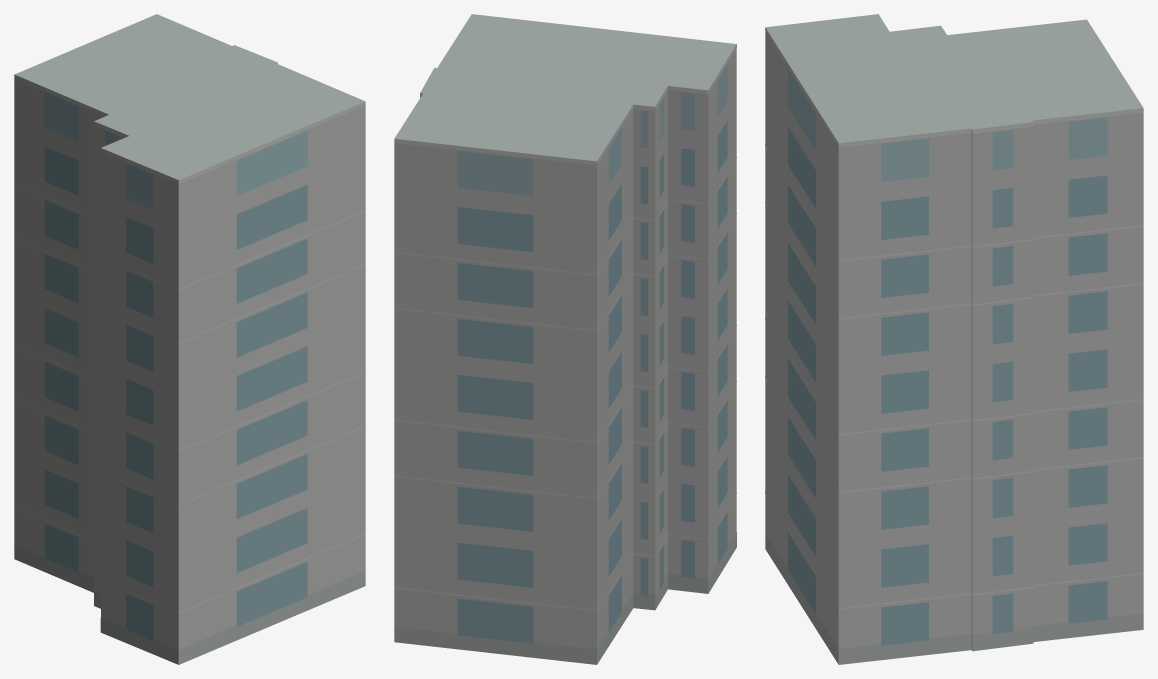
The model's file is survey-upis-32653515.glb.
The picture shows the model from 3 angles, left to right: view 1: azimuth 30°, elevation 25°; view 2: azimuth 150°, elevation 25°; view 3: azimuth 270°, elevation 25°; orthographic projection. The views are drawn at different scales.
Visible parts, largest first — view 1: survey-upis-32653515.tmp; view 2: survey-upis-32653515.tmp; view 3: survey-upis-32653515.tmp.
Boxes of the visible parts, x1=… form: survey-upis-32653515.tmp: x1=14, y1=14, x2=365, y2=664; survey-upis-32653515.tmp: x1=394, y1=14, x2=736, y2=664; survey-upis-32653515.tmp: x1=765, y1=14, x2=1143, y2=664.
Bounding box in the file's own units: 15.01 × 28.2 × 18.57.
